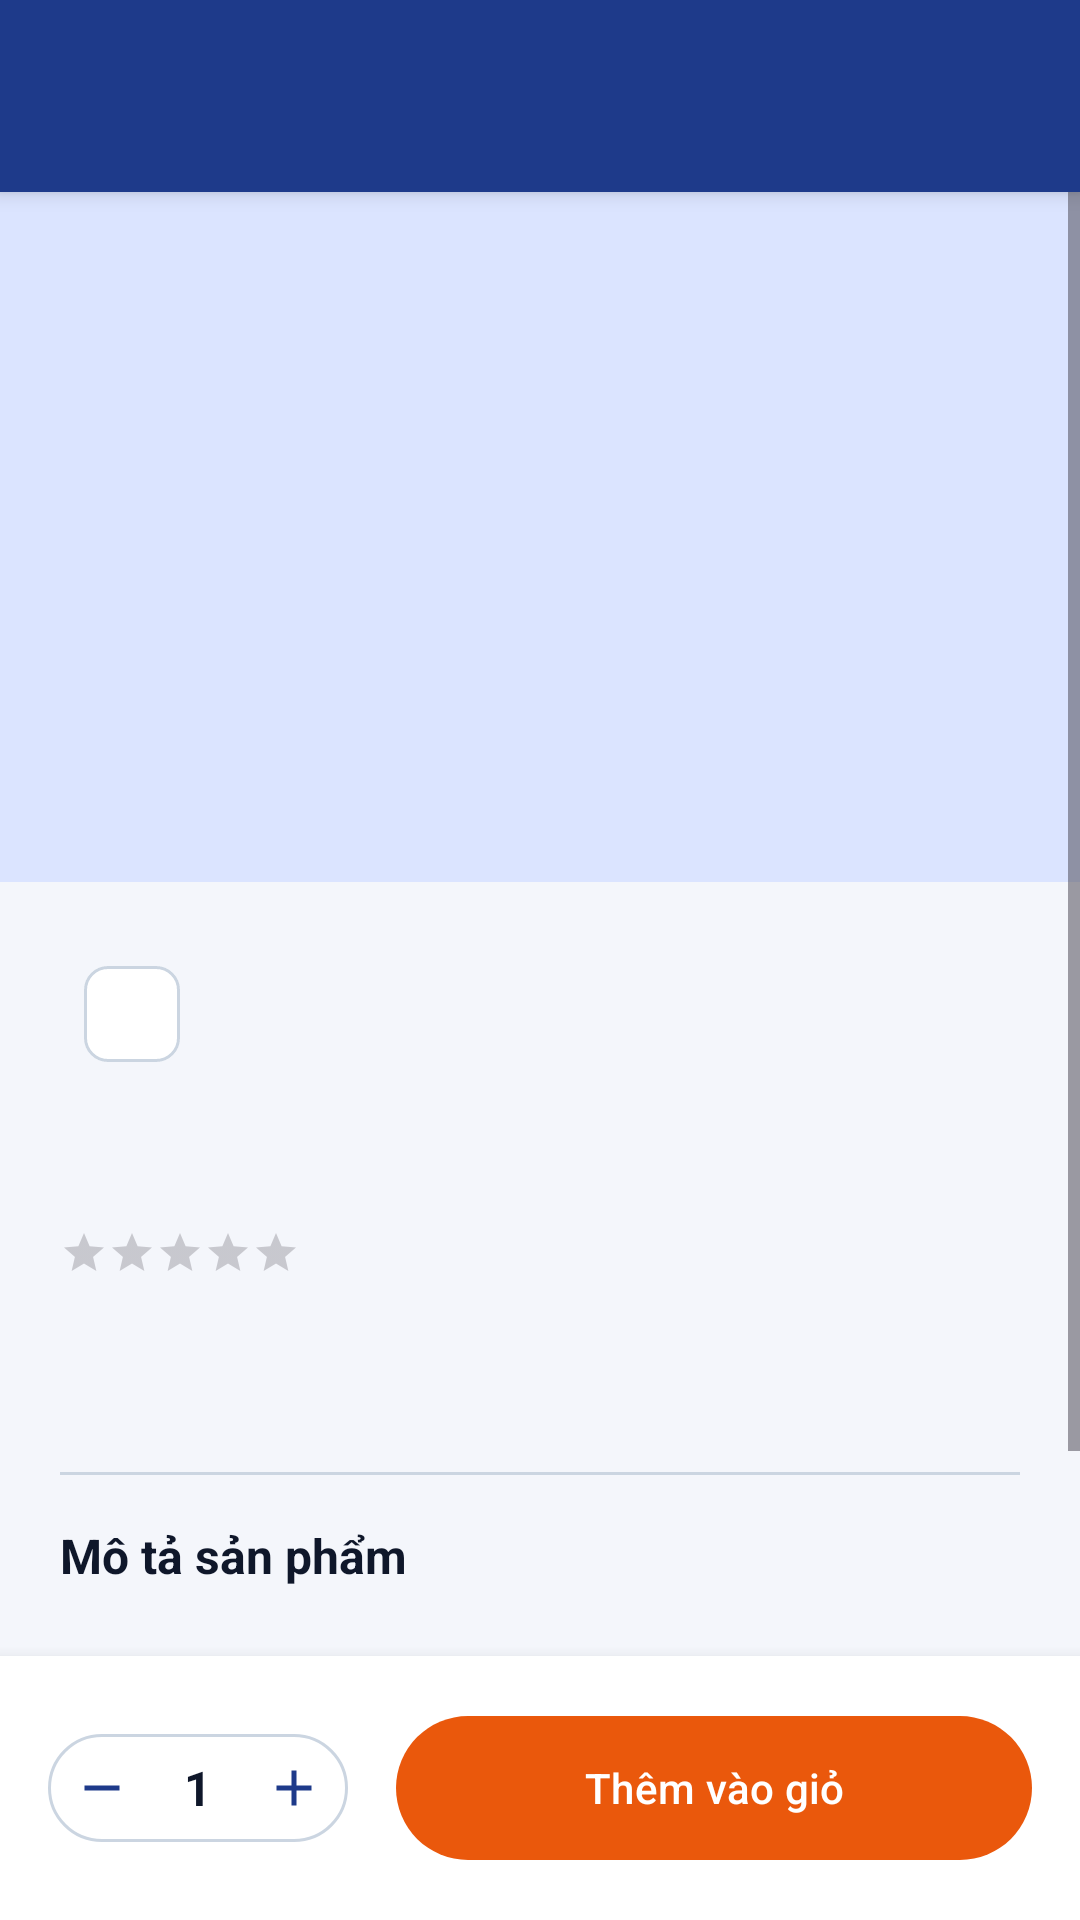

Icon click points for this 1080 x 1920 phone screenshot, format [x,y]:
add: [294,1788]
remove: [102,1788]
